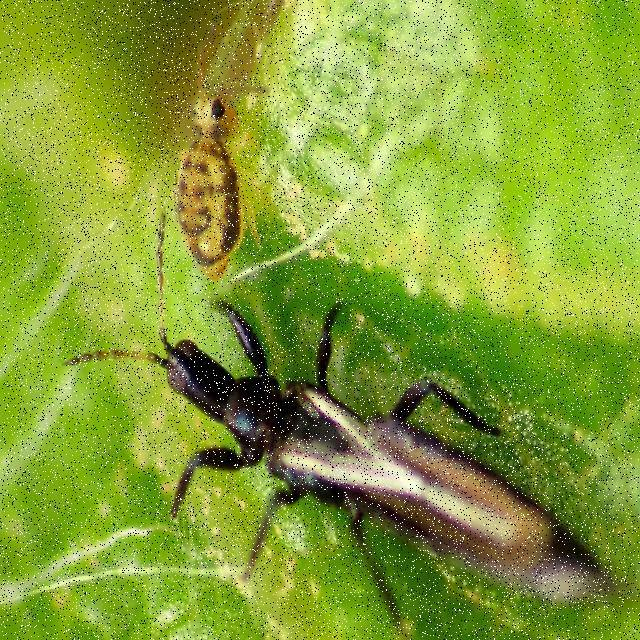Thrips: (117, 334, 621, 629)
